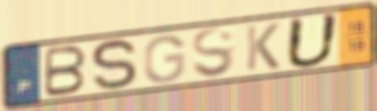B: (42, 44, 89, 99)
G: (142, 33, 187, 85)
K: (244, 21, 282, 72)
S: (89, 37, 140, 94), (190, 26, 237, 80)
U: (283, 11, 343, 70)
